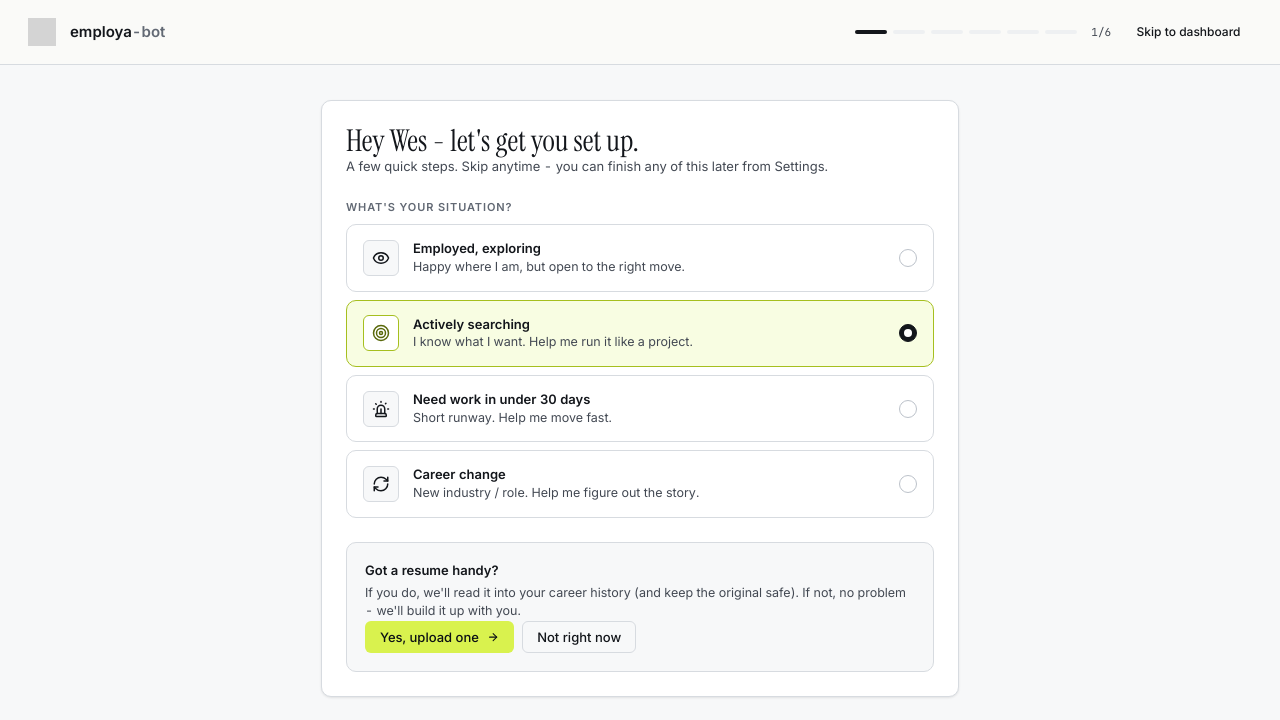
it: OnboardingScreen › marches through Branch A to the done step with both CTAs
Click the button "Yes, upload one".
click(440, 637)  # box [365, 621, 514, 653]
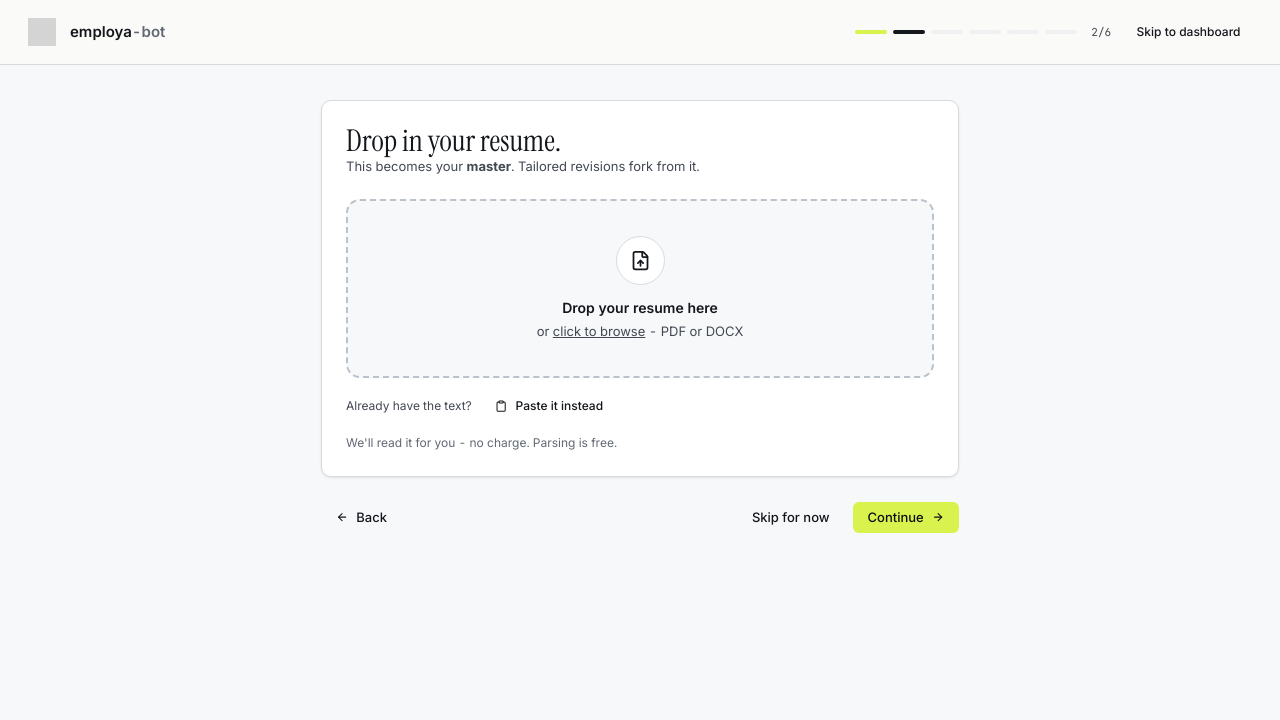
Click the button "Continue".
click(906, 517)  # box [853, 502, 959, 533]
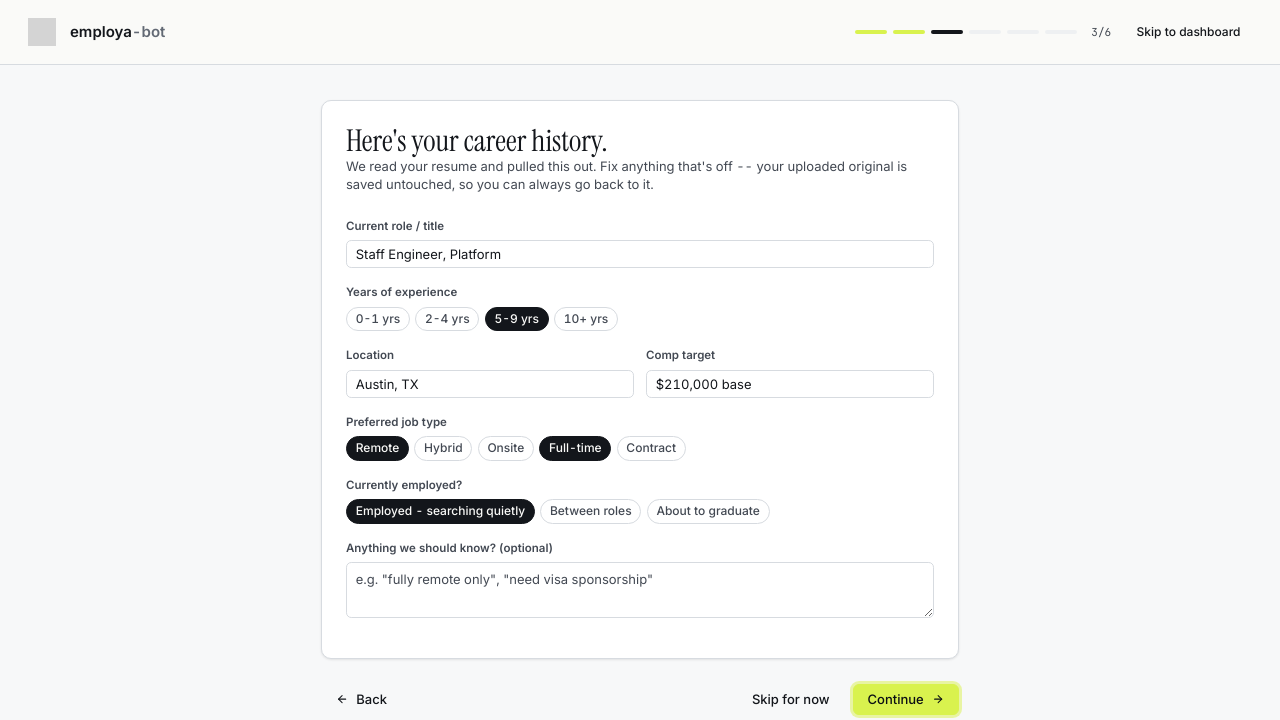
Click the button "Continue".
click(906, 699)  # box [853, 684, 959, 715]
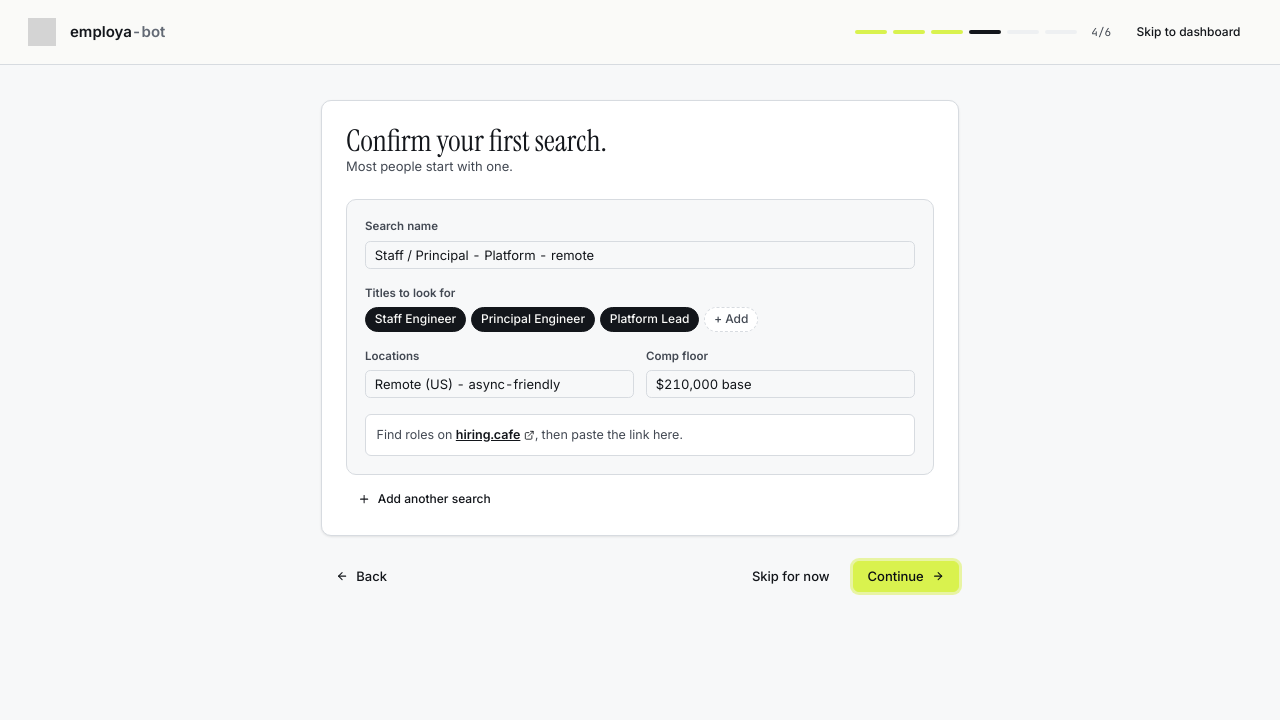
Click the button "Continue".
click(906, 577)  # box [853, 561, 959, 592]
(page scrolled)
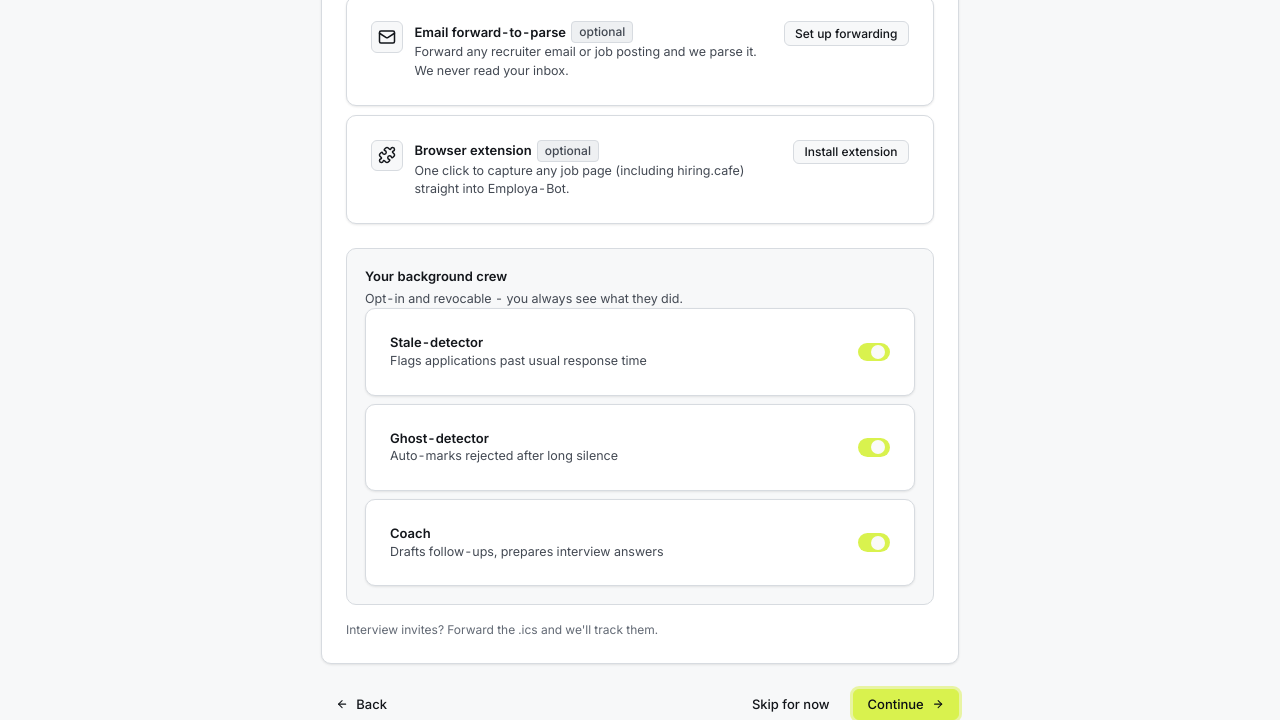
Click the button "Continue".
click(906, 705)  # box [853, 689, 959, 719]
(page scrolled)
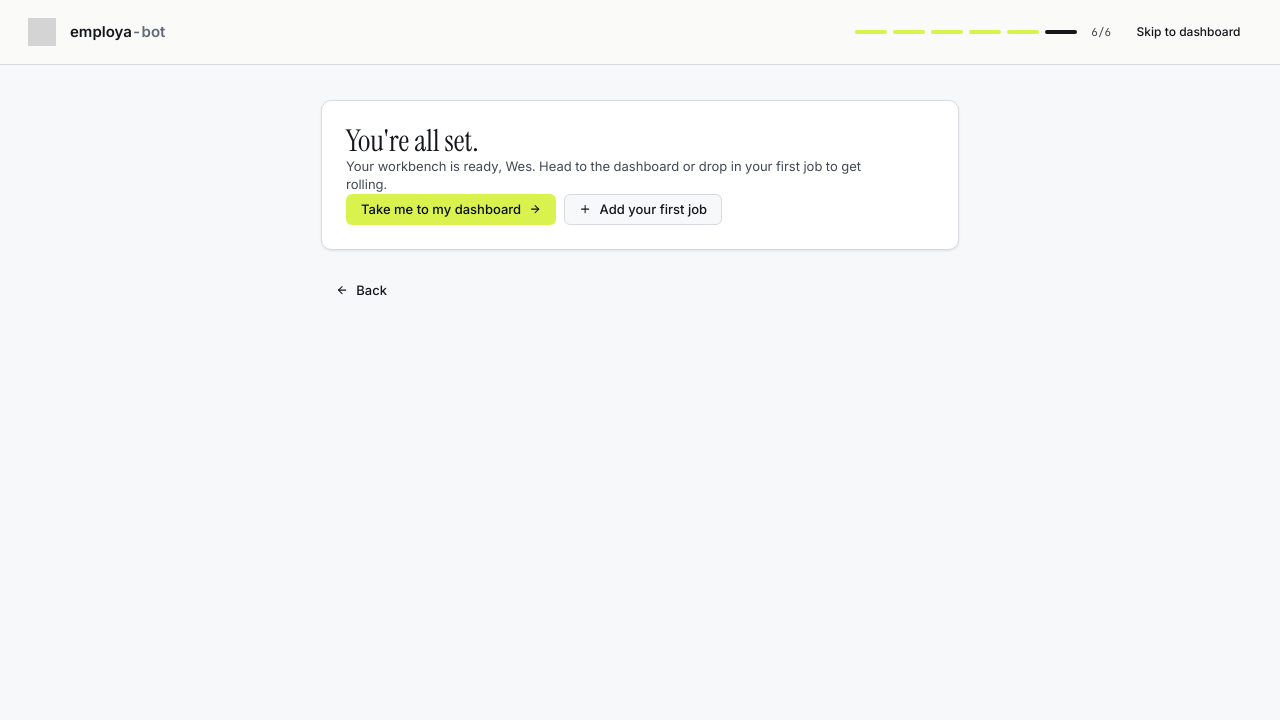
Check: the heading "You're all set." is shown, box [346, 121, 479, 160]
Check: the button "Take me to my dashboard" is shown, box [346, 194, 556, 225]
Check: the button "Add your first job" is shown, box [564, 194, 722, 225]
